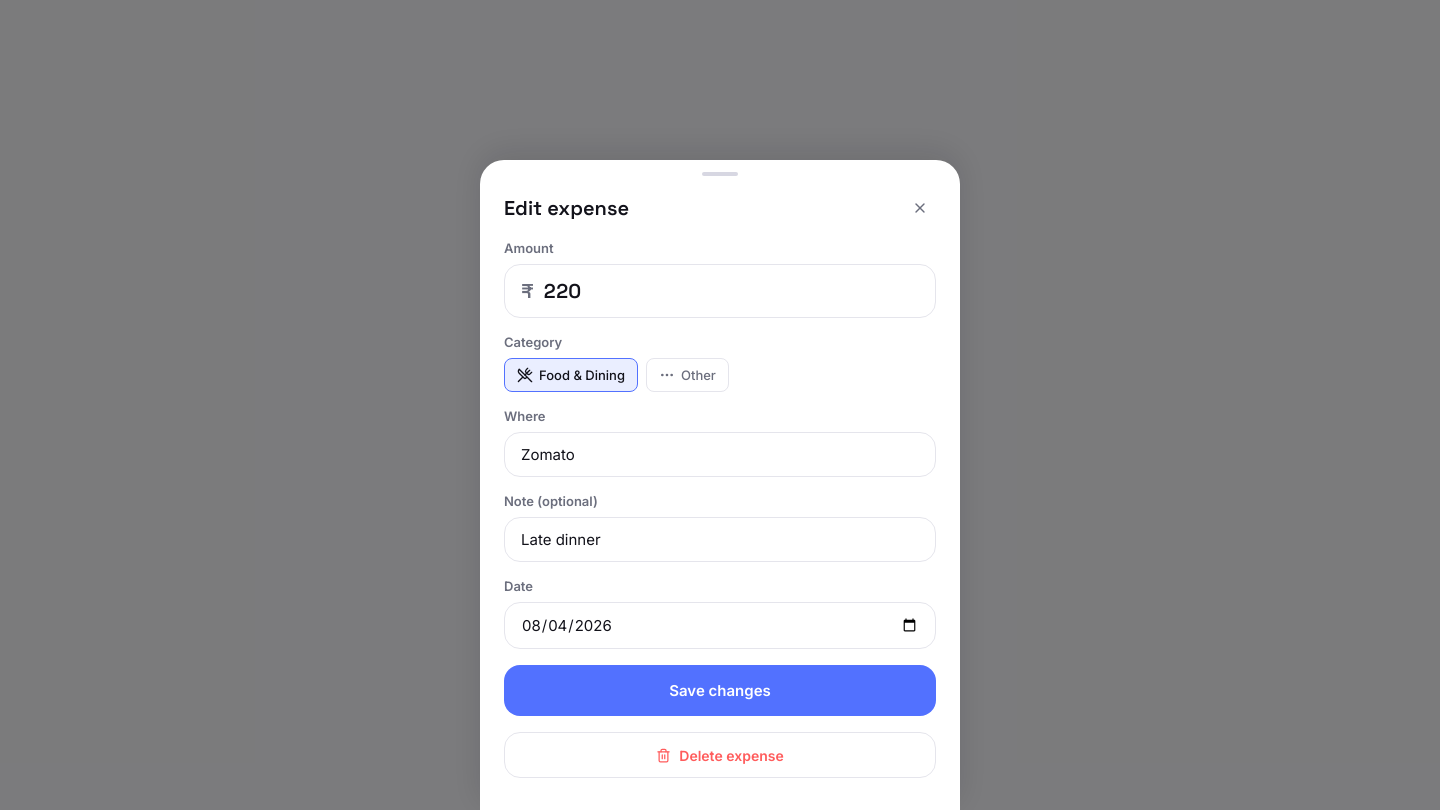
Scenario: AddExpenseSheet — editing › rejects an amount of zero
This screenshot has width=1440, height=810.
Replace the text in the number field labelled "Amount" with "0". click: (730, 291)
box: [542,277,919,305]
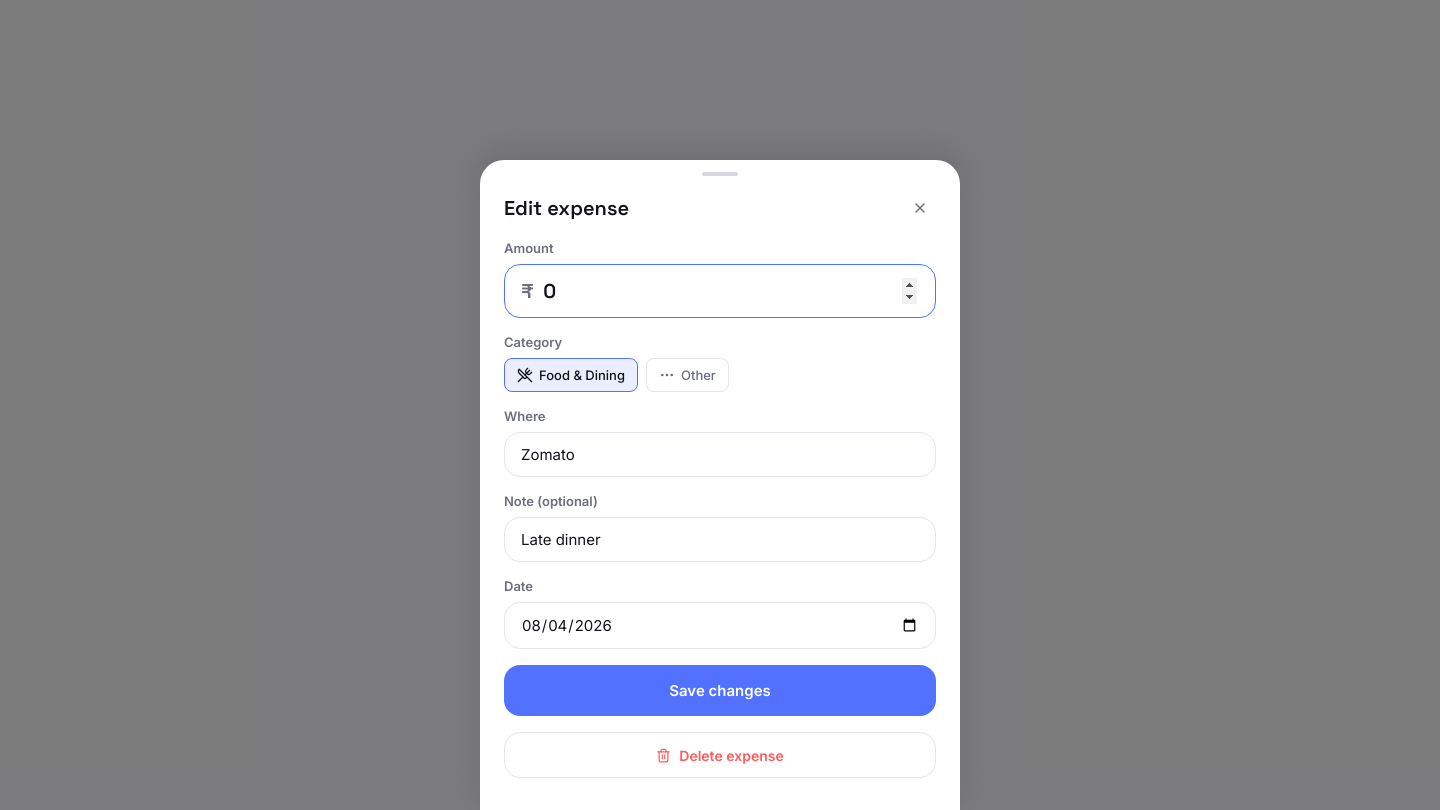
Click the button "Save changes". click: (720, 690)
box: [504,665,936,716]
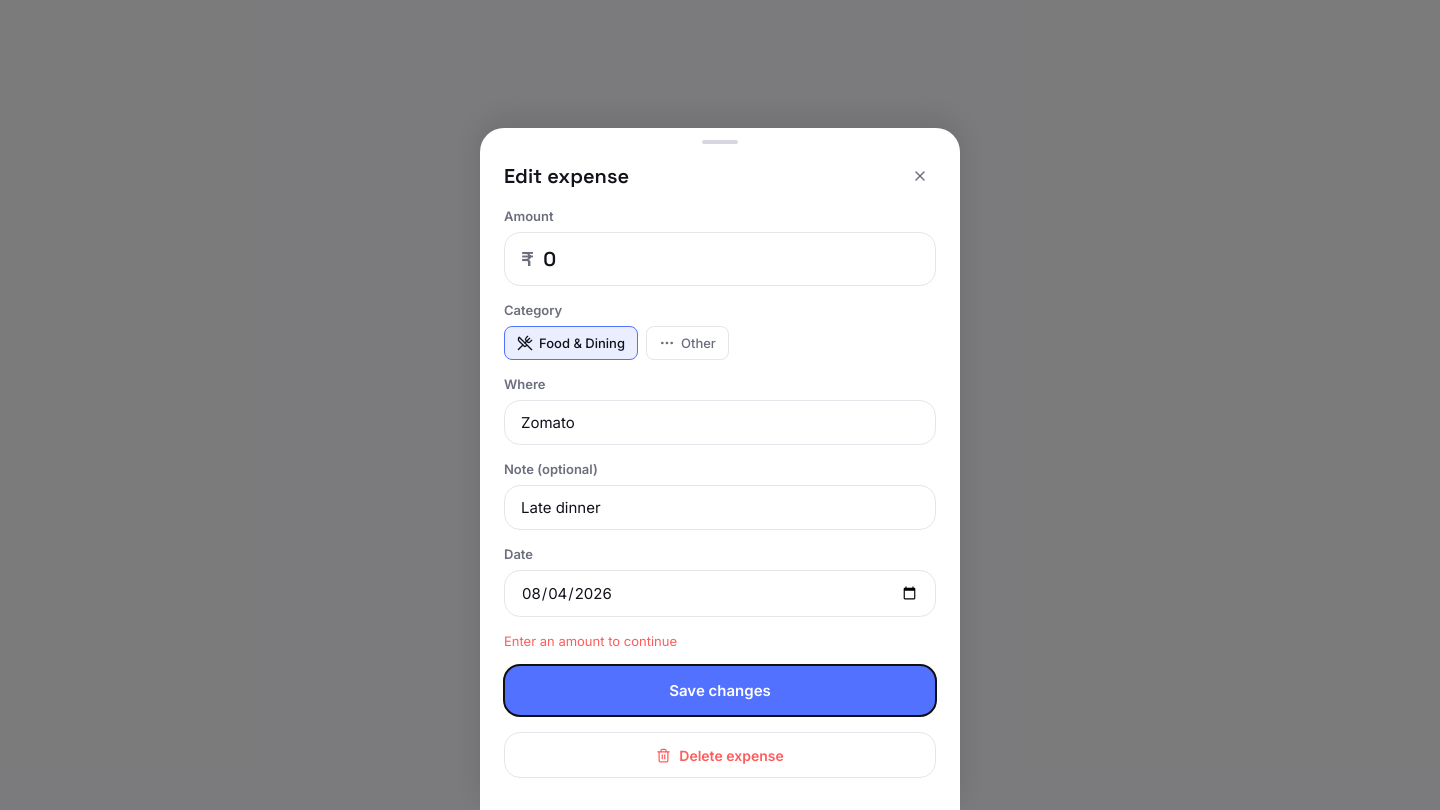
Expected: the text "Enter an amount to continue" is shown, [504,633,677,649]
